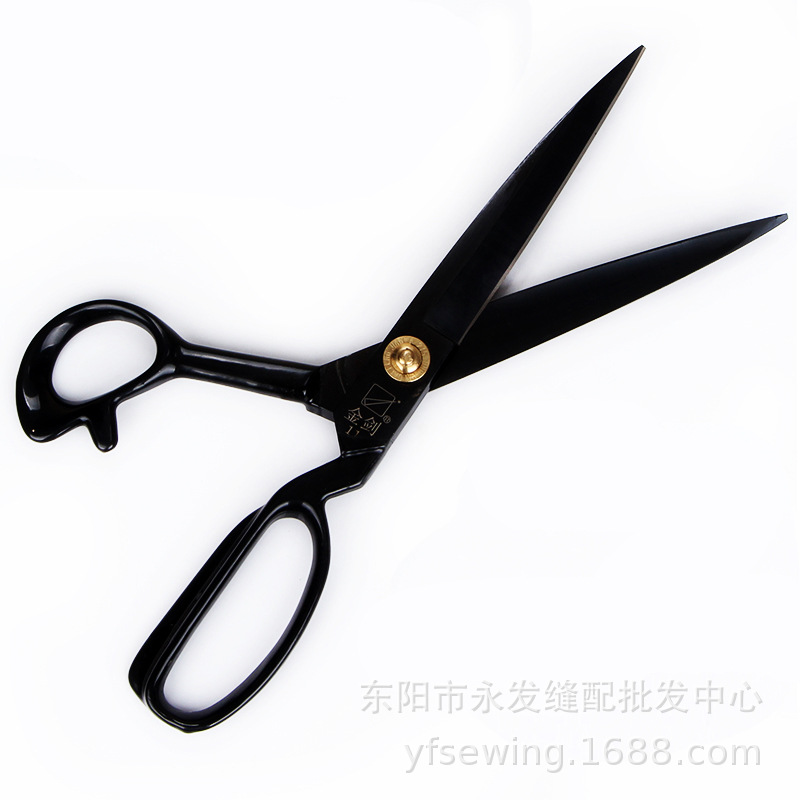scissors: (8, 42, 800, 737)
